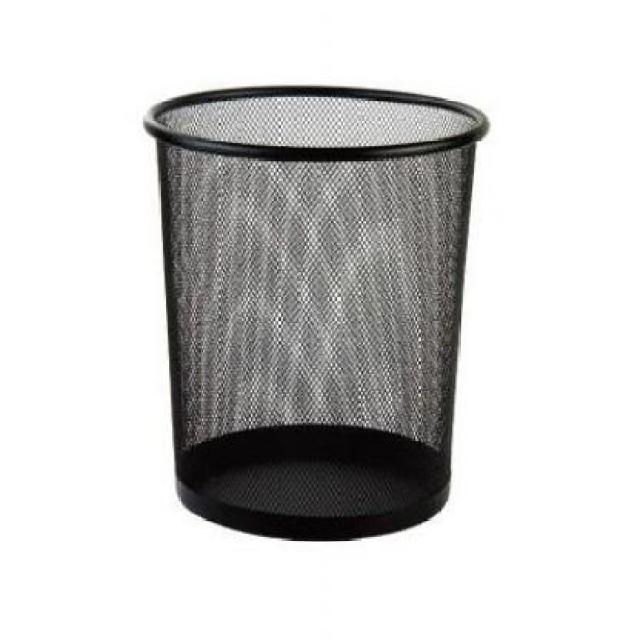dustbin: (137, 77, 495, 550)
